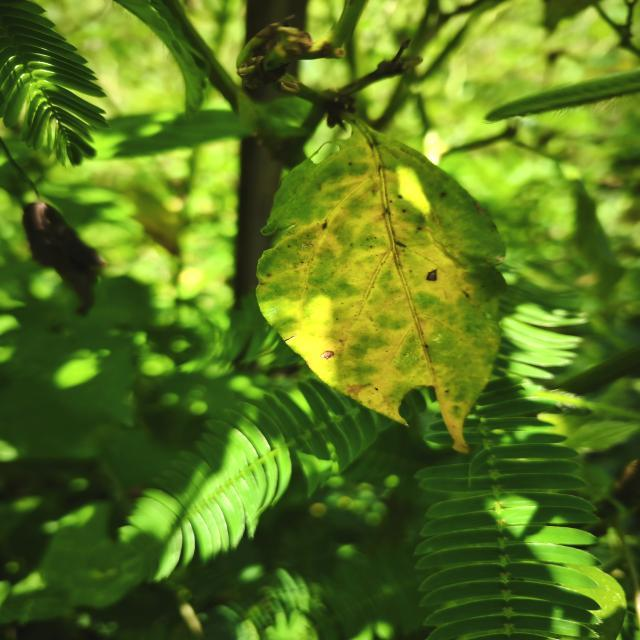Virus Kuning: (255, 113, 510, 454)
